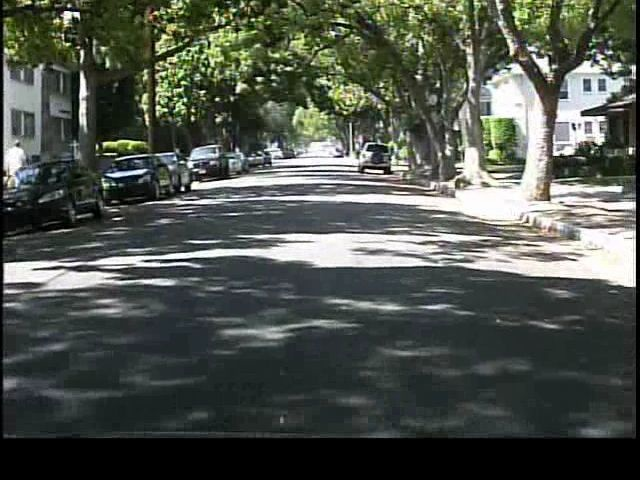person: (5, 137, 32, 205)
